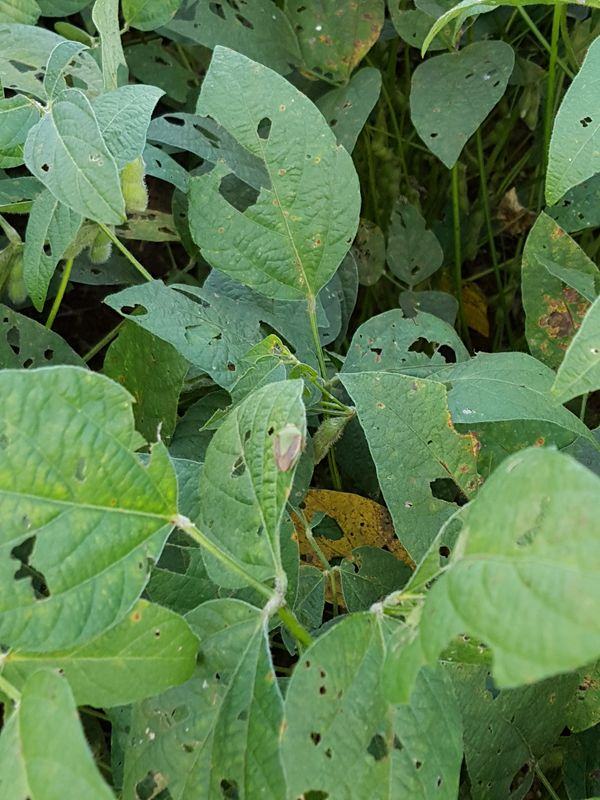Edessa_meditabunda: (257, 416, 317, 481)
